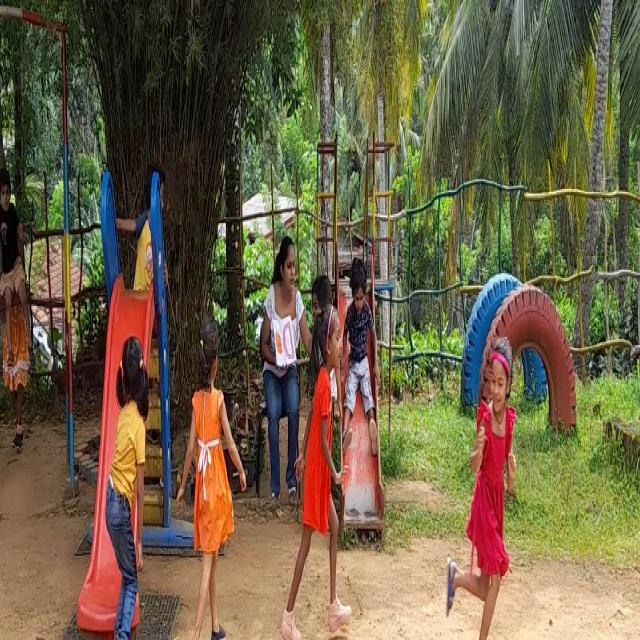adult: (257, 218, 307, 500)
child: (449, 342, 526, 640), (293, 309, 349, 640), (186, 323, 234, 640), (110, 335, 151, 640), (344, 251, 376, 448), (0, 159, 28, 338)
